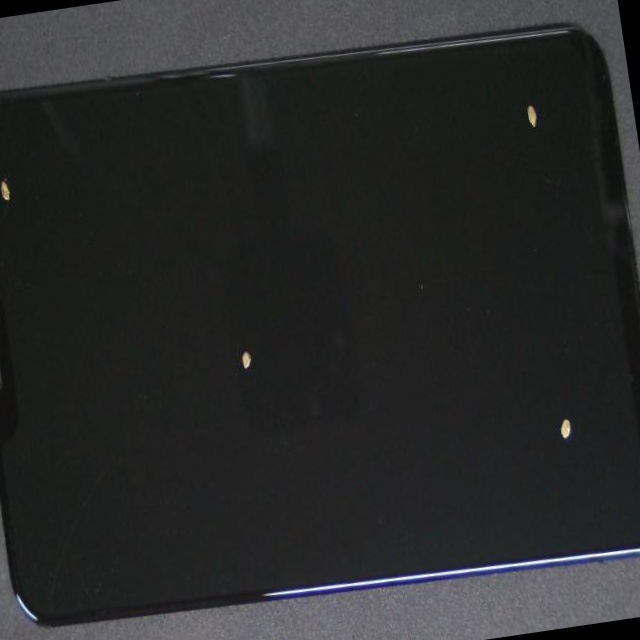stain: (217, 105, 640, 640), (31, 109, 405, 569), (199, 0, 640, 224), (0, 89, 66, 249)
